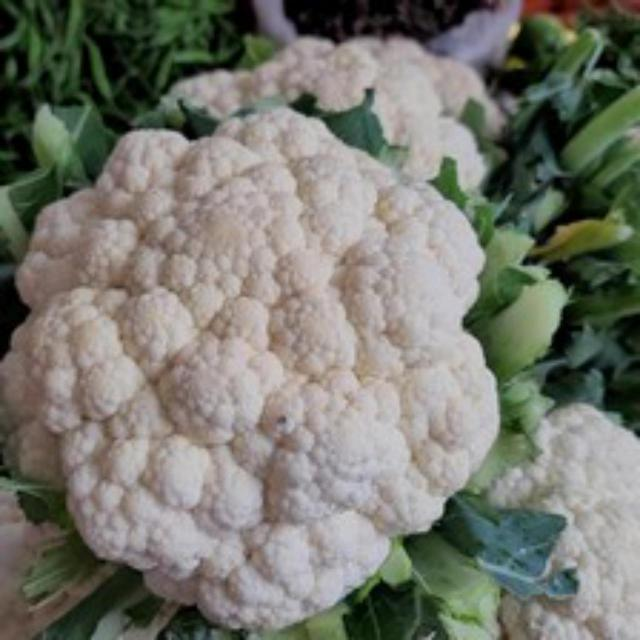cauliflower: (13, 99, 539, 616)
